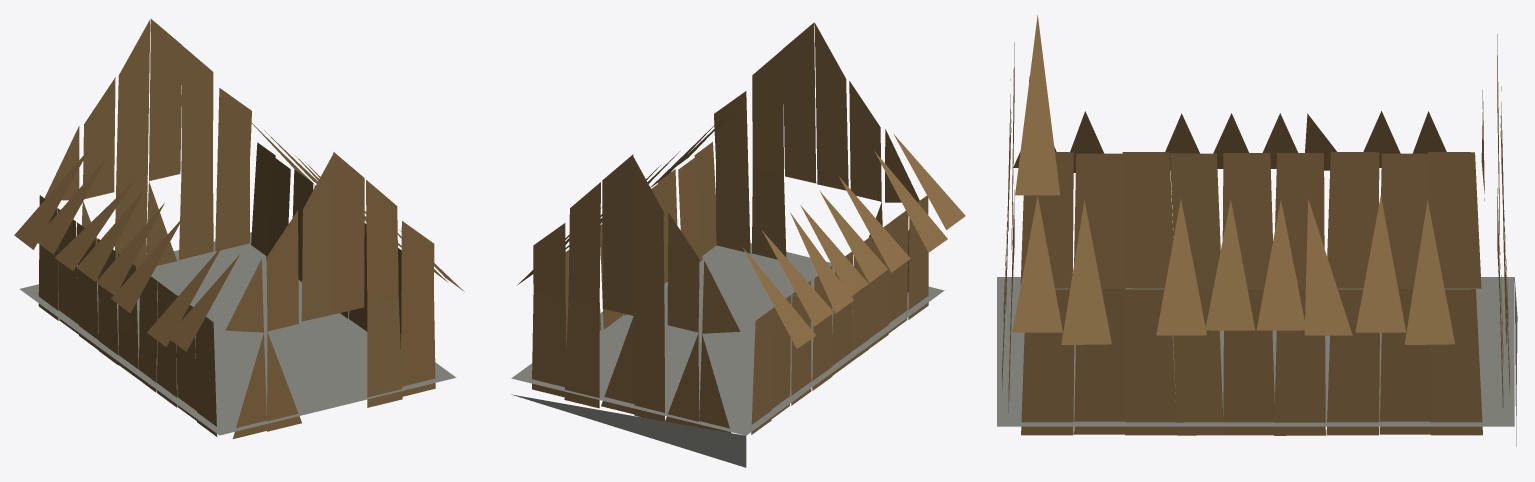
The model's file is hus_lod2.glb.
3 renders of one model, left to right at view 1: azimuth 30°, elevation 25°; view 2: azimuth 150°, elevation 25°; view 3: azimuth 270°, elevation 25°, orthographic. The views are drawn at different scales.
Parts seen in each view (by area): view 1: Houses_FirstAge_1_Level3; view 2: Houses_FirstAge_1_Level3; view 3: Houses_FirstAge_1_Level3.
Part boxes in pixels (x1,y1,x2,y2): Houses_FirstAge_1_Level3: (14,19,464,438); Houses_FirstAge_1_Level3: (511,22,965,467); Houses_FirstAge_1_Level3: (997,15,1517,446).
Bounding box in the file's own units: 8.18 × 7.79 × 9.83.
